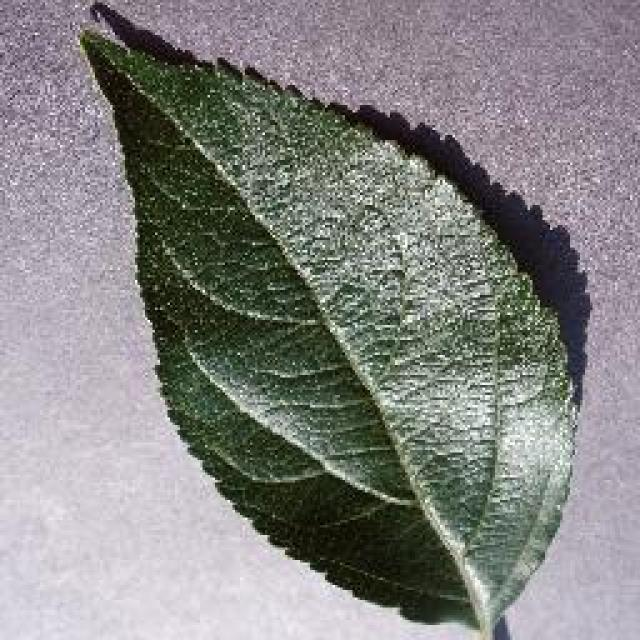apple healthy: (75, 0, 587, 638)
